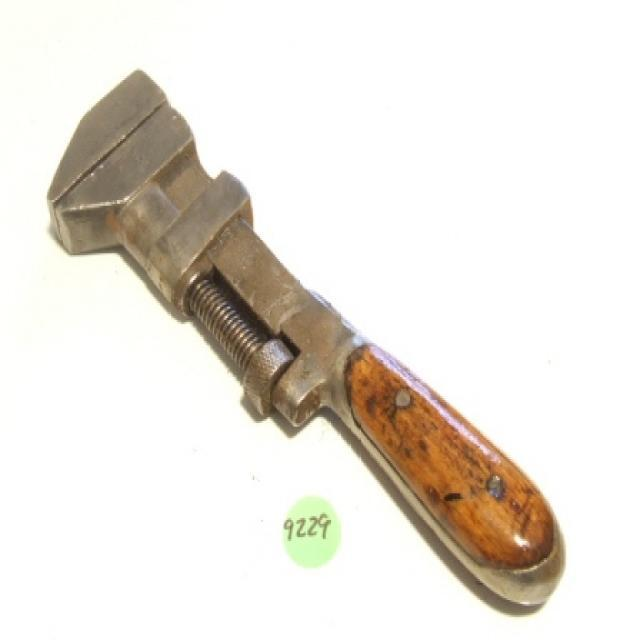wrench: (36, 53, 572, 614)
